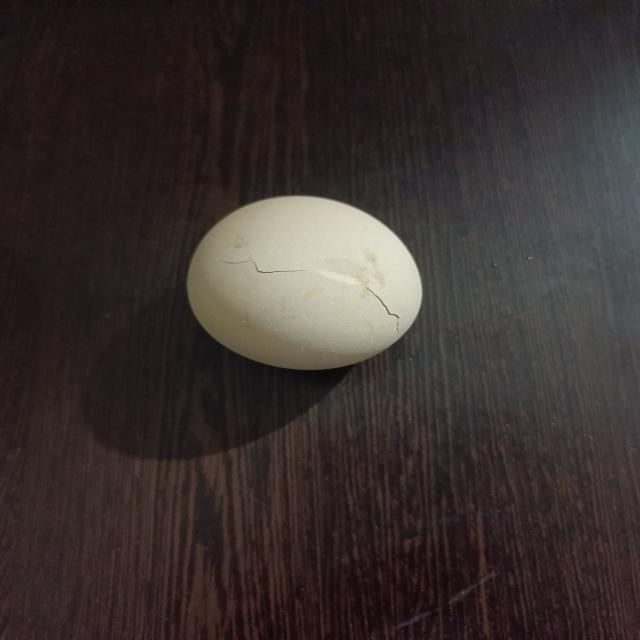biodegradable: (182, 196, 428, 373)
